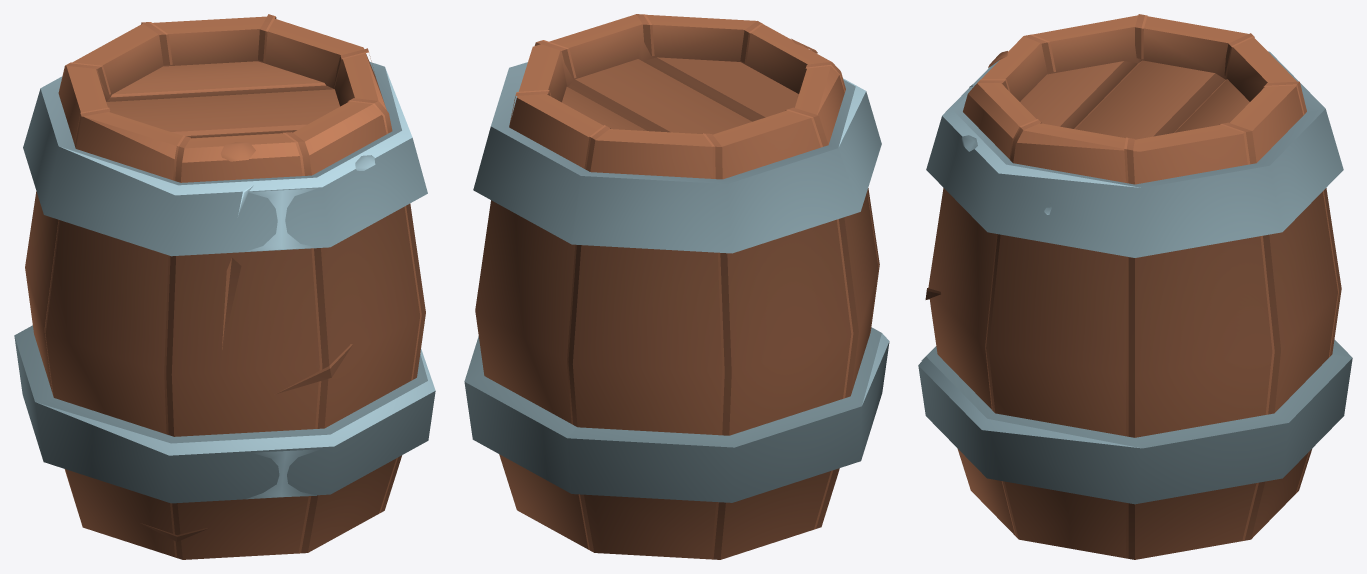
File: barrel.glb
3 views of the same model, side by side, from view 1: azimuth 30°, elevation 25°; view 2: azimuth 150°, elevation 25°; view 3: azimuth 270°, elevation 25° (orthographic).
Parts seen in each view (by area): view 1: barrel; view 2: barrel; view 3: barrel.
Boxes of the visible parts, x1=… form: barrel: x1=14, y1=14, x2=435, y2=559; barrel: x1=464, y1=14, x2=889, y2=559; barrel: x1=918, y1=14, x2=1352, y2=559.
Bounding box in the file's own units: 0.6062 × 0.6376 × 0.6137.
Materials: 1 (1 with a texture image).
